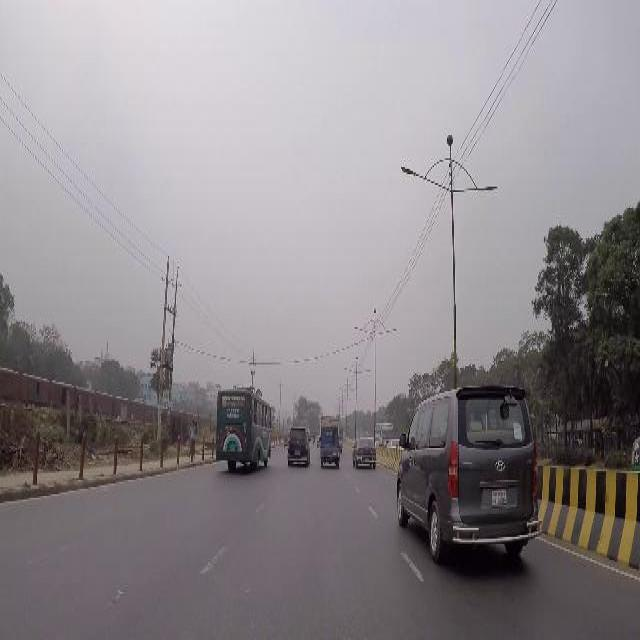vehicle: (394, 385, 545, 559), (214, 385, 273, 470), (287, 426, 312, 468), (320, 424, 341, 467), (352, 439, 378, 471), (376, 423, 395, 448)
